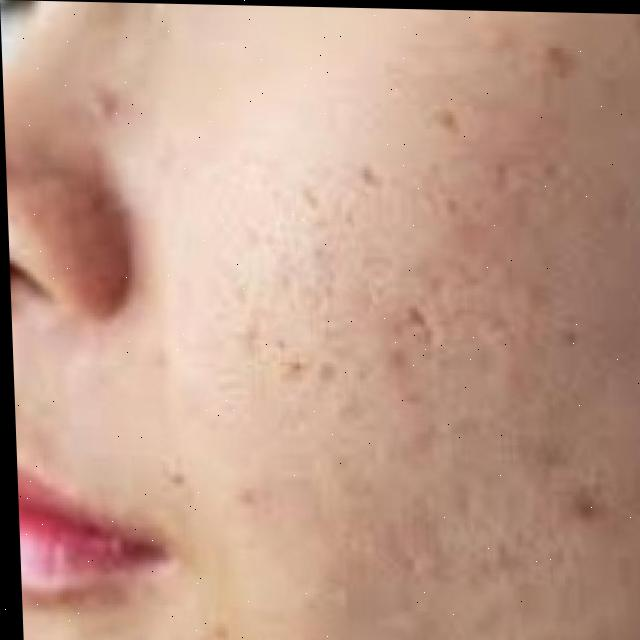Acne: (272, 89, 627, 553)
